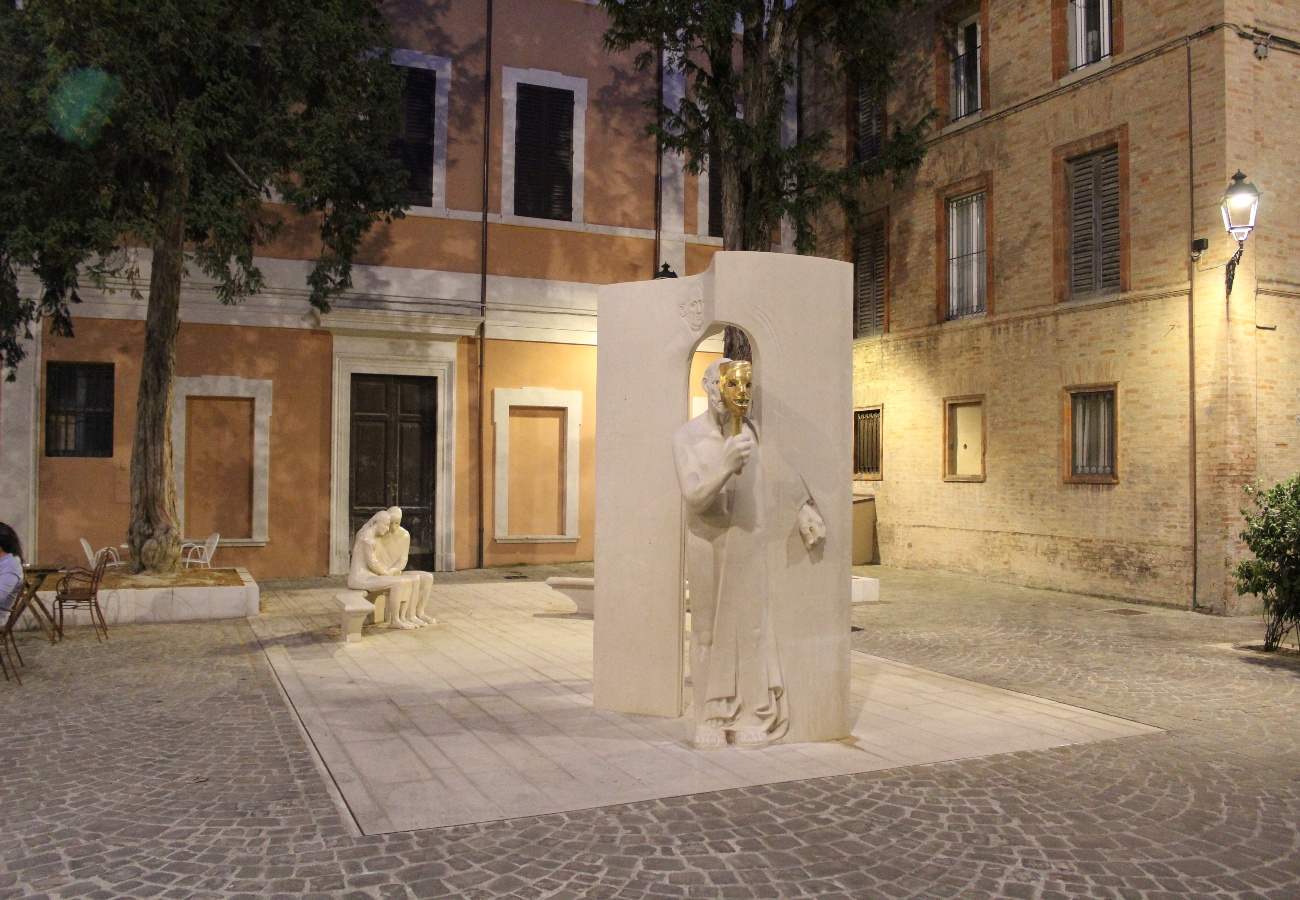Scultura della Memoria: (672, 356, 830, 749)
